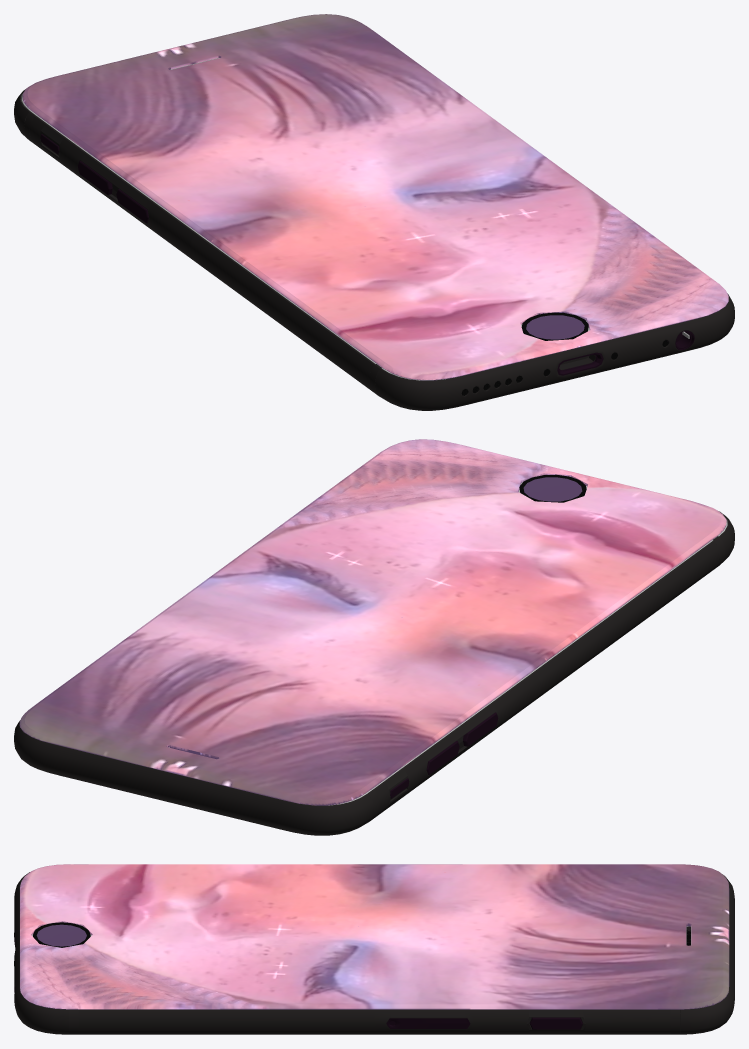
Rendered from carmen-phone-new.glb.
The picture shows the model from 3 angles, top to bottom: view 1: azimuth 30°, elevation 25°; view 2: azimuth 150°, elevation 25°; view 3: azimuth 270°, elevation 25°; orthographic projection. The views are drawn at different scales.
Visible parts, largest first — view 1: polySurface242, alum_body4, alum_body3, polySurface625.001, polySurface206.001; view 2: polySurface242, alum_body2, alum_body3, polySurface625.001, polySurface206.001; view 3: polySurface242, alum_body3, alum_body2, alum_body4, polySurface219.001, polySurface625.001, polySurface218.001, polySurface214.001.
Part boxes in pixels (left/top/right/bottom): polySurface242: left=22, top=14, right=728, bottom=380; alum_body4: left=375, top=293, right=734, bottom=410; alum_body3: left=29, top=115, right=375, bottom=392; polySurface625.001: left=526, top=315, right=584, bottom=339; polySurface206.001: left=21, top=58, right=589, bottom=380; polySurface242: left=19, top=439, right=726, bottom=805; alum_body2: left=14, top=720, right=373, bottom=835; alum_body3: left=374, top=540, right=719, bottom=817; polySurface625.001: left=523, top=477, right=582, bottom=501; polySurface206.001: left=169, top=482, right=727, bottom=805; polySurface242: left=20, top=864, right=729, bottom=1009; alum_body3: left=78, top=1009, right=670, bottom=1034; alum_body2: left=680, top=874, right=734, bottom=1034; alum_body4: left=14, top=872, right=68, bottom=1034; polySurface219.001: left=386, top=1018, right=470, bottom=1028; polySurface625.001: left=36, top=924, right=86, bottom=946; polySurface218.001: left=529, top=1017, right=582, bottom=1029; polySurface214.001: left=33, top=922, right=90, bottom=947.
Size of the model in its own units: 7.81 by 0.8216 by 15.91.
Materials: 11 (1 with a texture image).
